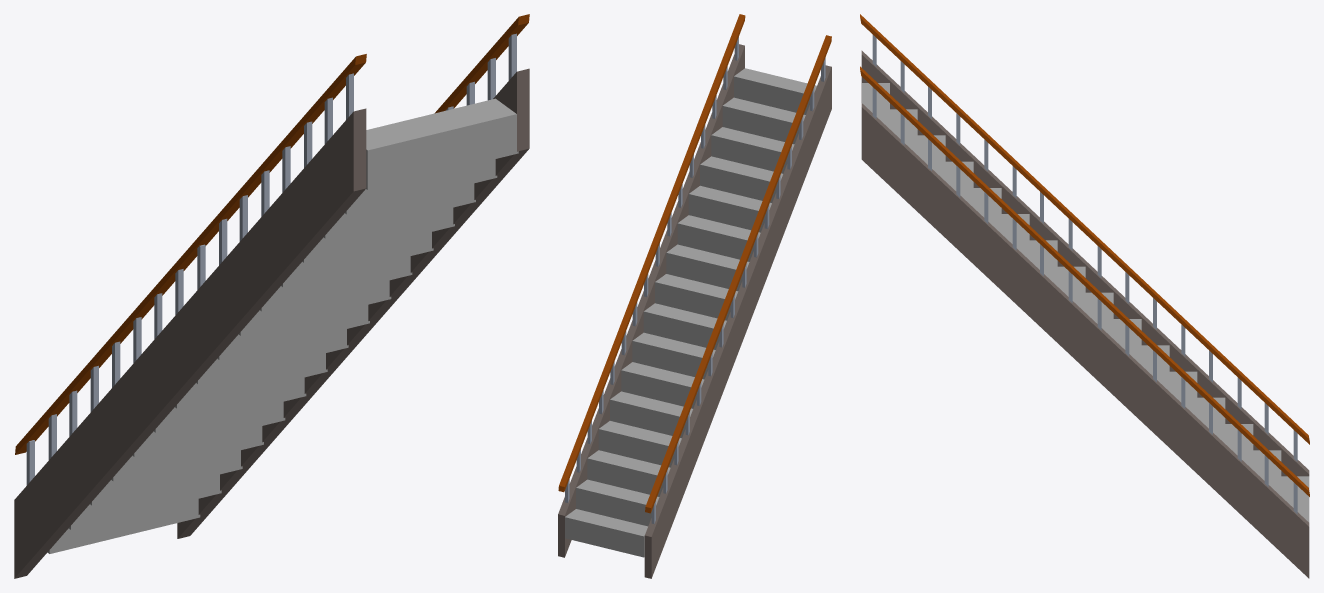
The model's file is Ladder 3-4.fbx.
3 renders of one model, left to right at view 1: azimuth 30°, elevation 25°; view 2: azimuth 150°, elevation 25°; view 3: azimuth 270°, elevation 25°, orthographic. The views are drawn at different scales.
Parts seen in each view (by area): view 1: Steps 1.001, Plane.001, Railings; view 2: Steps 1.001, Plane.001, Railings; view 3: Plane.001, Railings, Steps 1.001.
Boxes of the visible parts, x1=… form: Steps 1.001: x1=47, y1=98, x2=518, y2=553; Plane.001: x1=14, y1=68, x2=529, y2=578; Railings: x1=15, y1=14, x2=529, y2=485; Steps 1.001: x1=565, y1=68, x2=816, y2=557; Plane.001: x1=558, y1=44, x2=831, y2=578; Railings: x1=558, y1=14, x2=831, y2=523; Plane.001: x1=861, y1=50, x2=1309, y2=578; Railings: x1=860, y1=14, x2=1309, y2=514; Steps 1.001: x1=862, y1=83, x2=1309, y2=522.
Size of the model in its own units: 282 by 1182 by 947.
